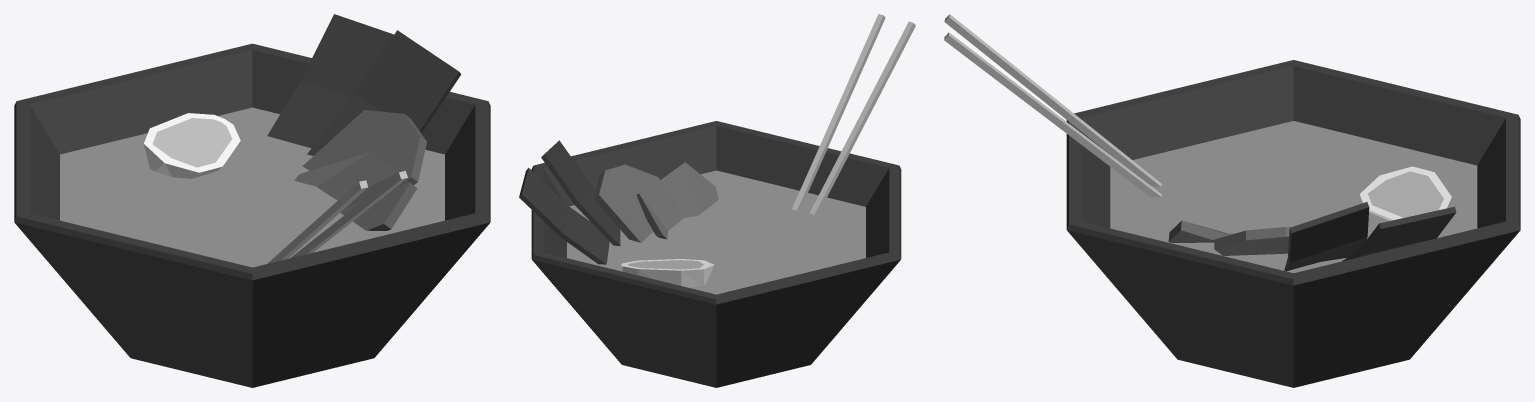
File: bowl_ramen_A.FBX
3 views of the same model, side by side, from view 1: azimuth 30°, elevation 25°; view 2: azimuth 150°, elevation 25°; view 3: azimuth 270°, elevation 25° (orthographic). The views are drawn at different scales.
Parts seen in each view (by area): view 1: bowl_ramen_A; view 2: bowl_ramen_A; view 3: bowl_ramen_A.
Part boxes in pixels (box(x1,y1,x2,y2)): bowl_ramen_A: box(14, 14, 490, 387); bowl_ramen_A: box(519, 14, 915, 387); bowl_ramen_A: box(944, 14, 1520, 387).
Bounding box in the file's own units: 28.94 × 17.23 × 31.82.
